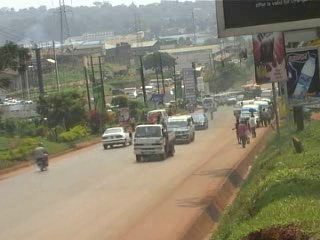Car: (99, 125, 133, 151), (189, 110, 210, 131)
Motorcycle: (32, 148, 49, 173)
